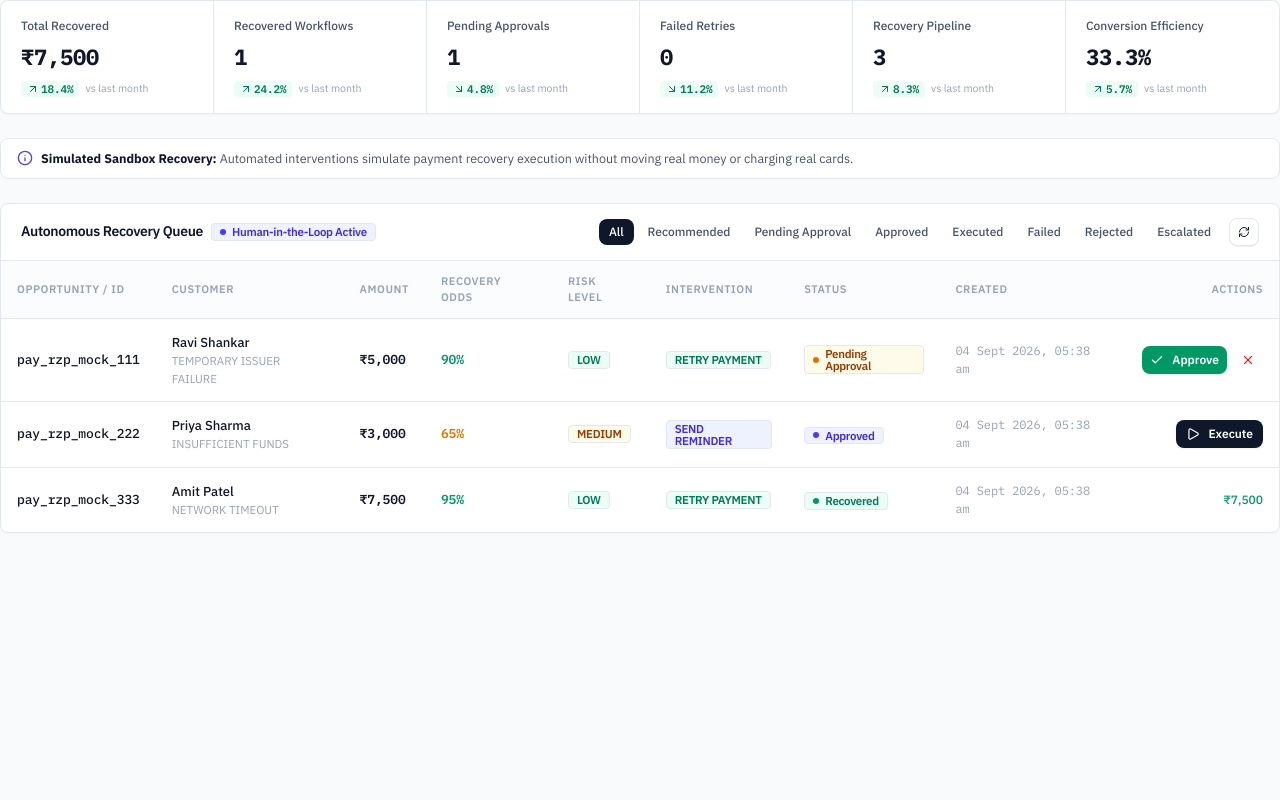
Test case: Recovery Dashboard UI Component (Milestone 6 Step 10B Hardened) › displays recovered amount on successful execution
Click the button "Execute" at [1220, 434], box [1176, 420, 1263, 448]
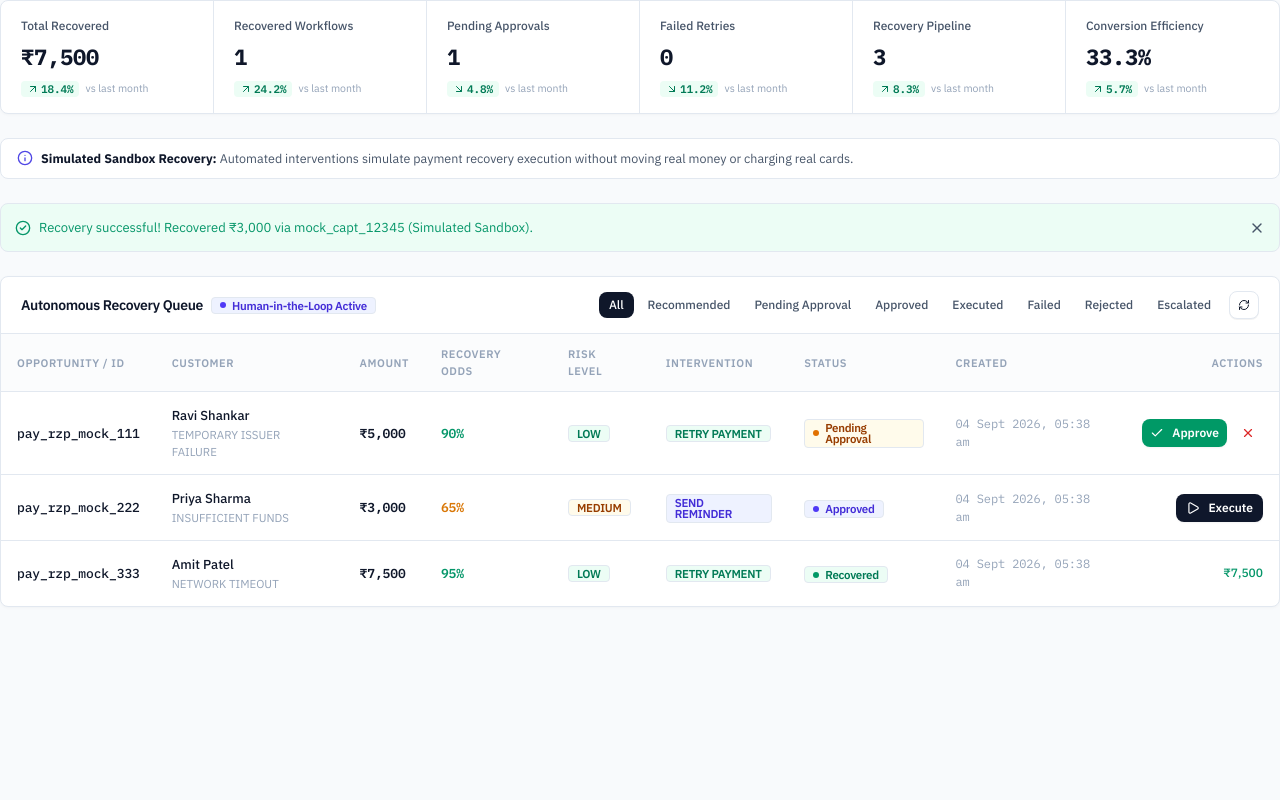
expect the text "Recovery successful! Recovered ₹3,000" is shown: met, box [39, 219, 533, 236]
